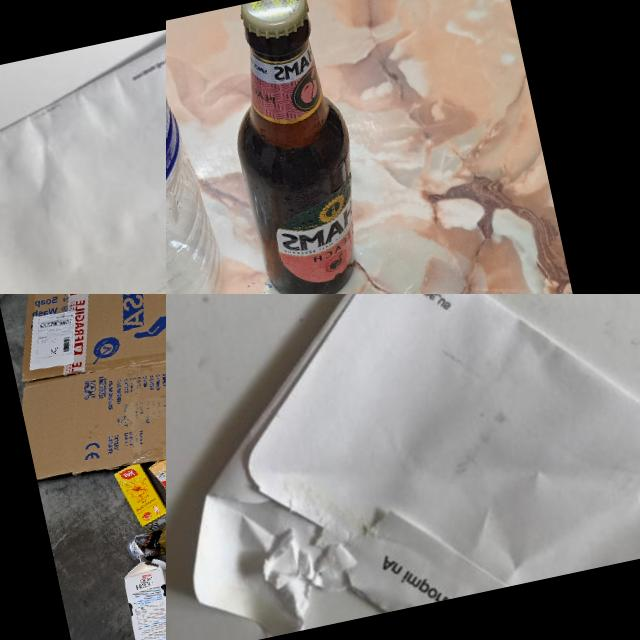caixinha: (116, 554, 166, 640), (113, 459, 166, 531), (148, 450, 166, 524)
garrafa de vidro: (208, 0, 381, 294)
garrafa plástica: (166, 19, 233, 294)
lata: (123, 517, 166, 563)
papel: (166, 294, 640, 640), (0, 9, 166, 294)
papelão: (0, 294, 166, 493)
tampa plástica: (150, 556, 166, 570)
